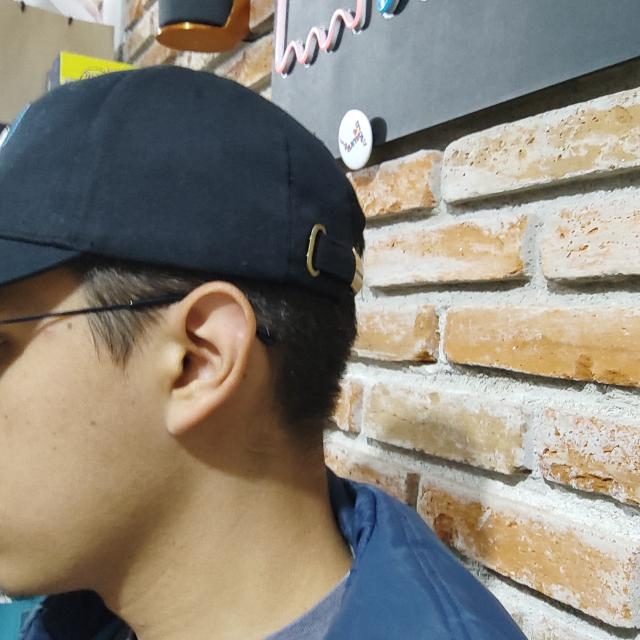ear: (158, 281, 256, 436)
